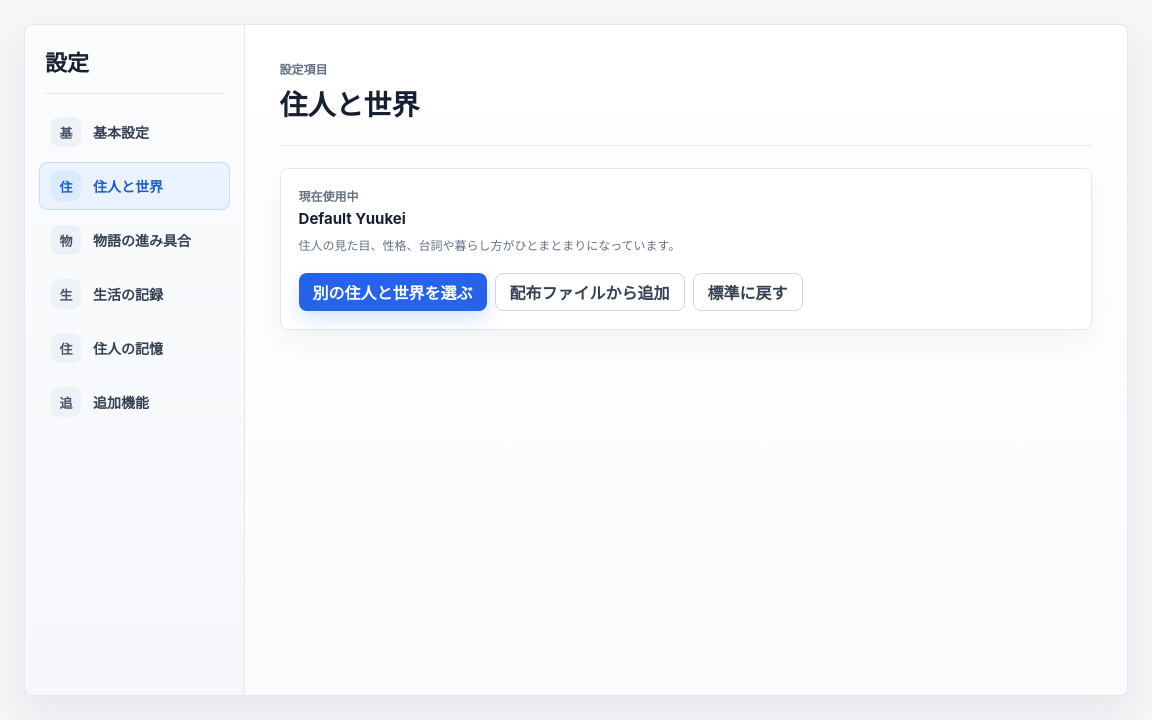
it: App › switches settings categories without leaving the app surface
Check: the text "Default Yuukei" is shown, box [298, 208, 406, 228]
Check: the text "0件の追加機能を利用できます" is not shown
Click the tab "追 追加機能": point(134, 402) [39, 378, 230, 426]
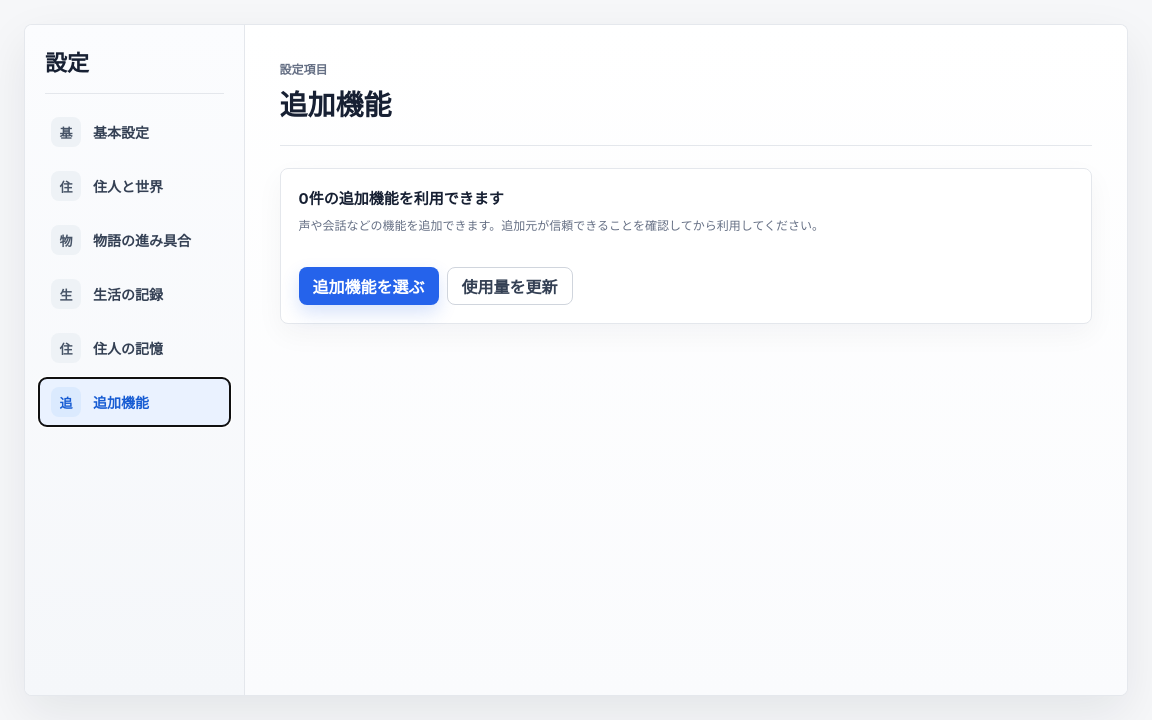
Check: the text "0件の追加機能を利用できます" is shown, box [298, 188, 504, 208]
Check: the text "Default Yuukei" is gone
